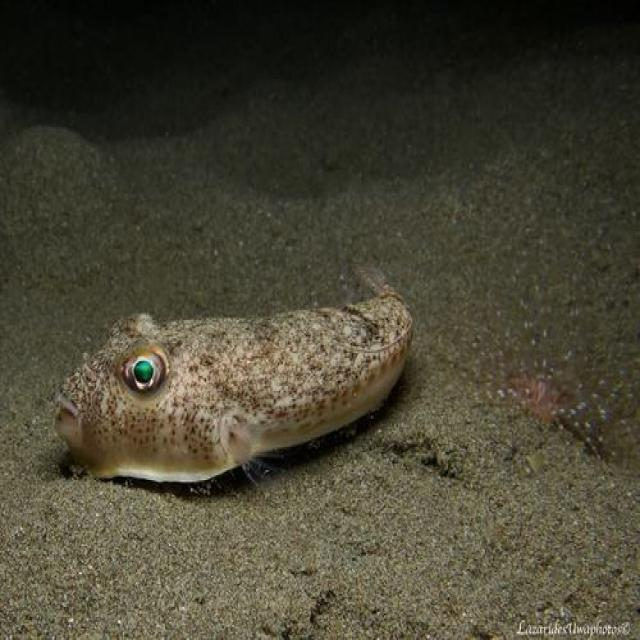Balik: (57, 283, 412, 481)
